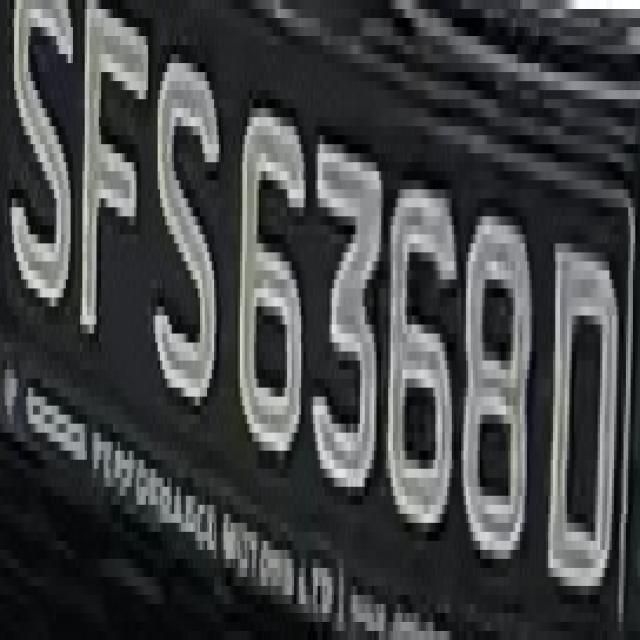3: (304, 126, 391, 541)
6: (235, 81, 306, 496), (391, 117, 452, 550)
8: (456, 171, 532, 631)
D: (546, 225, 623, 604)
F: (75, 18, 151, 379)
S: (151, 27, 221, 424), (2, 9, 82, 343)
